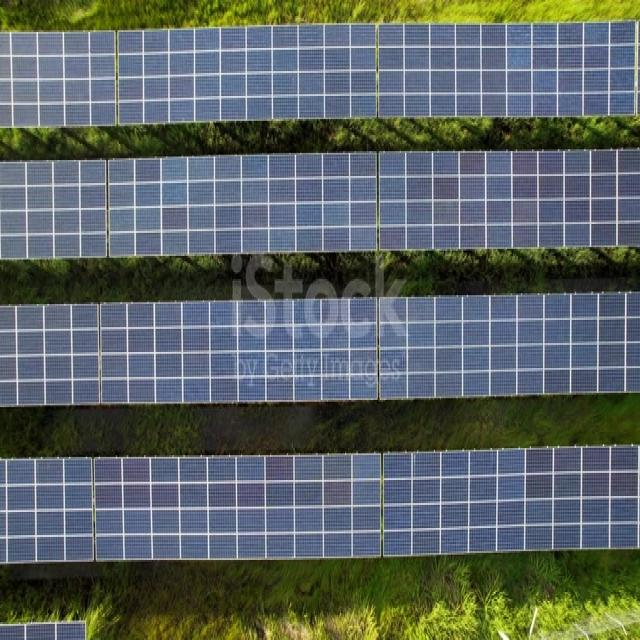solar-panel: (1, 447, 640, 558), (1, 294, 640, 399), (1, 155, 639, 253), (1, 24, 640, 115), (1, 623, 86, 639)
